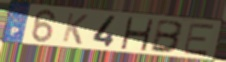4: (90, 13, 118, 49)
6: (30, 9, 57, 44)
B: (149, 18, 186, 55)
E: (182, 22, 216, 57)
H: (118, 16, 156, 53)
K: (60, 12, 90, 46)
